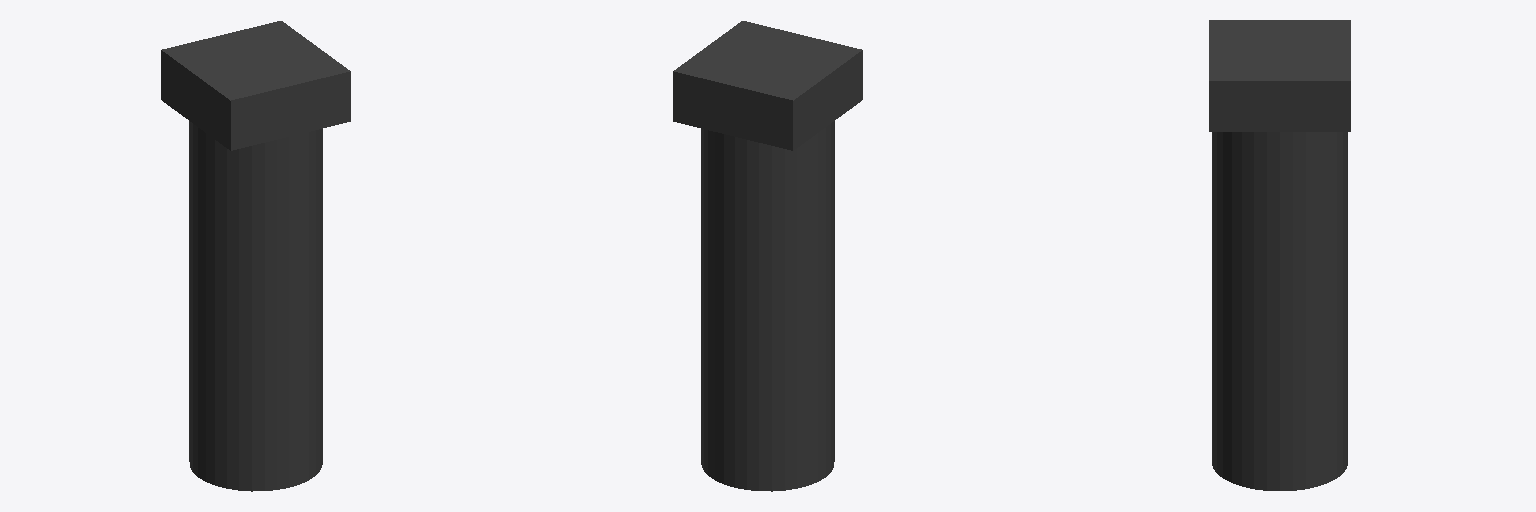
robot.urdf — pedestal:
<?xml version="1.0"?>
<robot name="pedestal">
  <link name="pedestal_link">
    <!-- Cylinder shaft: 0.7 m tall, center at z=0.35 -->
    <visual>
      <origin xyz="0 0 0.35" rpy="0 0 0"/>
      <geometry>
        <cylinder radius="0.12" length="0.7"/>
      </geometry>
      <material name="dark_grey">
        <color rgba="0.3 0.3 0.3 1.0"/>
      </material>
    </visual>
    <!-- Square mounting block: 0.1 m tall, sits from z=0.7 to z=0.8 (robot base) -->
    <visual>
      <origin xyz="0 0 0.75" rpy="0 0 0"/>
      <geometry>
        <box size="0.25 0.25 0.1"/>
      </geometry>
      <material name="dark_grey">
        <color rgba="0.3 0.3 0.3 1.0"/>
      </material>
    </visual>
    <!-- Combined collision -->
    <collision>
      <origin xyz="0 0 0.35" rpy="0 0 0"/>
      <geometry>
        <cylinder radius="0.12" length="0.7"/>
      </geometry>
    </collision>
    <collision>
      <origin xyz="0 0 0.75" rpy="0 0 0"/>
      <geometry>
        <box size="0.25 0.25 0.1"/>
      </geometry>
    </collision>
    <inertial>
      <mass value="20.0"/>
      <origin xyz="0 0 0.4" rpy="0 0 0"/>
      <inertia ixx="1.1" ixy="0" ixz="0" iyy="1.1" iyz="0" izz="0.14"/>
    </inertial>
  </link>
  <gazebo reference="pedestal_link">
    <material>Gazebo/DarkGrey</material>
  </gazebo>
  <!-- static is a MODEL property; inside <gazebo reference="link"> it is ignored. -->
  <gazebo>
    <static>true</static>
  </gazebo>
</robot>

--- Render facts (derived) ---
3 views of the same robot in one strip: view 1: azimuth 30°, elevation 25°; view 2: azimuth 150°, elevation 25°; view 3: azimuth 270°, elevation 25° (orthographic).
Robot: pedestal — 1 links, 0 joints (none); root link pedestal_link; default pose: every joint at zero.
Visible links, largest first — view 1: pedestal_link; view 2: pedestal_link; view 3: pedestal_link.
Boxes of the visible links, <box> form: pedestal_link: <box>161,21,350,491</box>; pedestal_link: <box>673,21,862,491</box>; pedestal_link: <box>1209,20,1350,490</box>.
Bounding box of the posed robot: 0.25 × 0.25 × 0.8 m (x, y, z).
Geometry: primitives only (box / cylinder / sphere), no mesh files.
